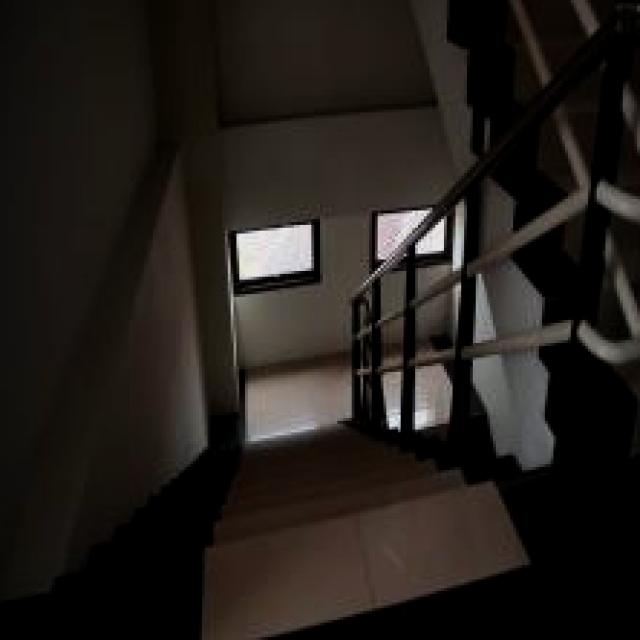downstair: (140, 445, 529, 640)
